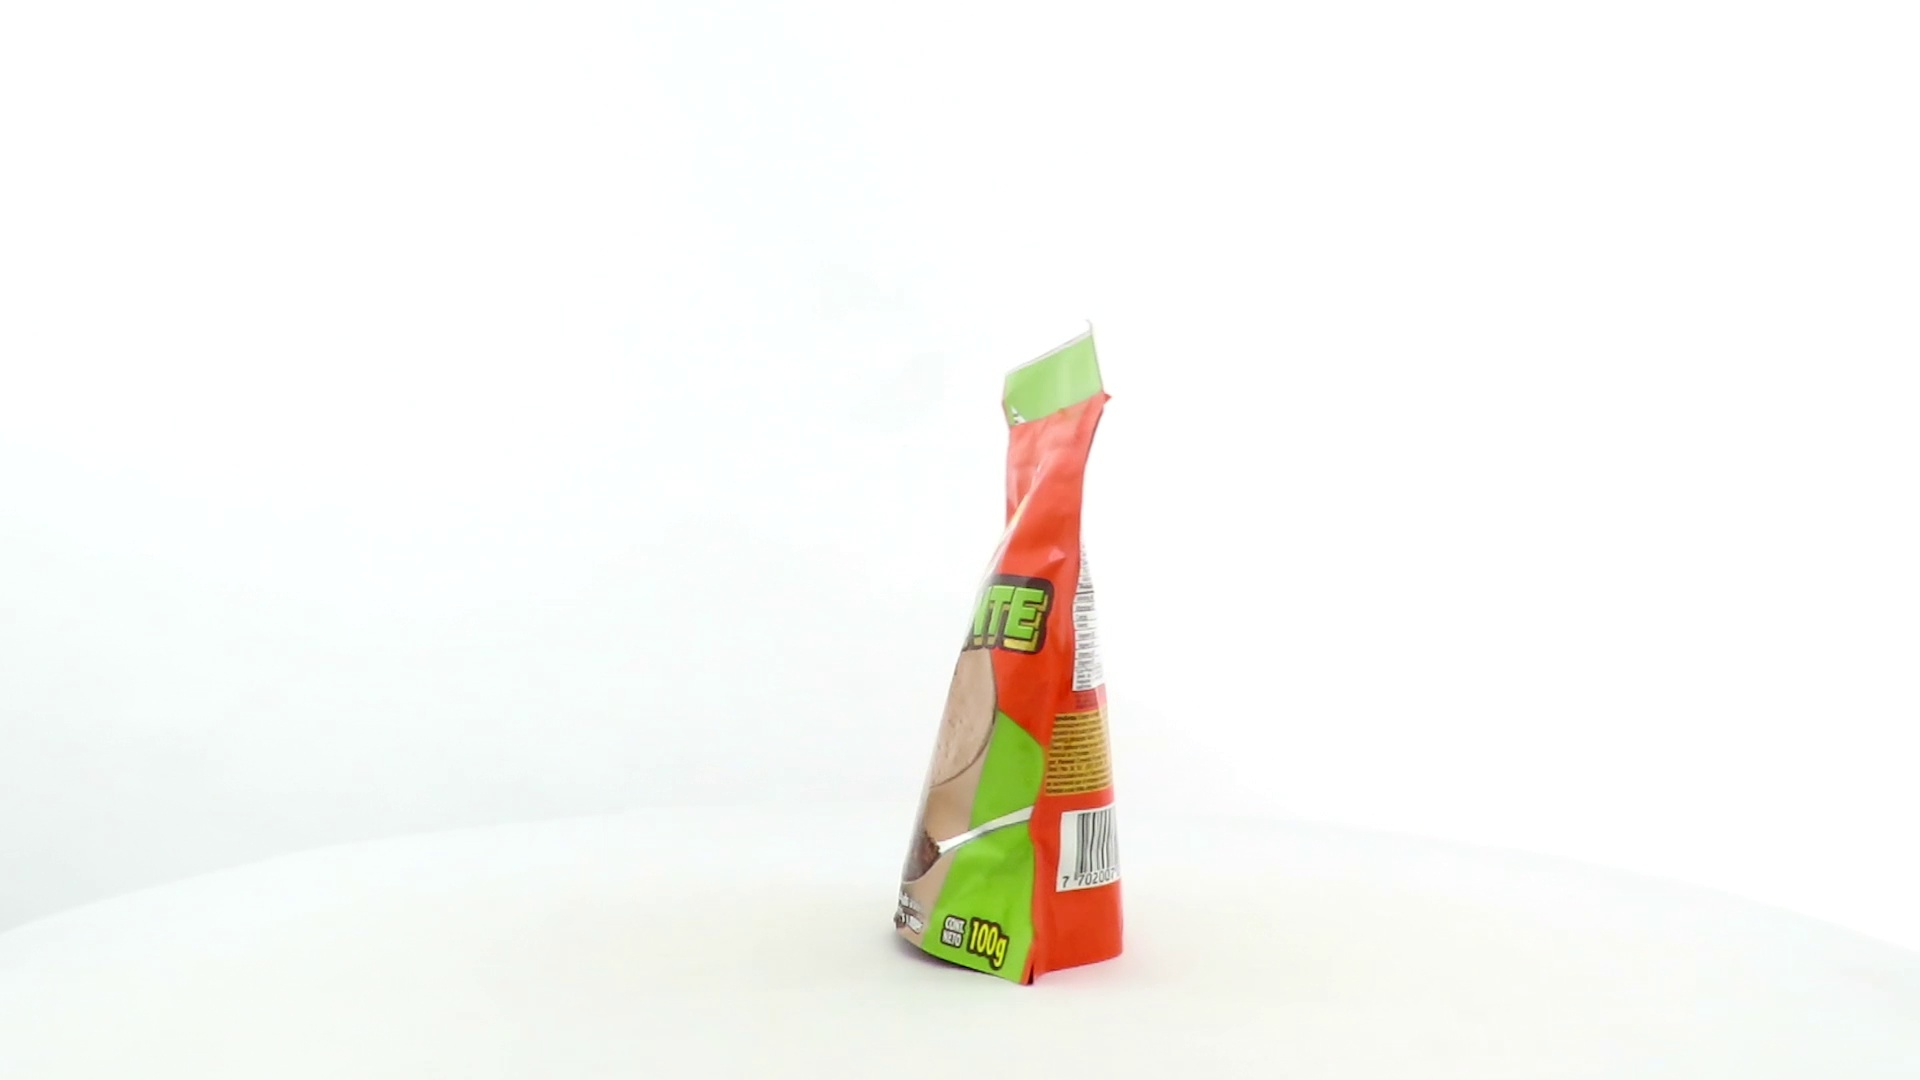COL0170102DYP10000: (885, 314, 1130, 993)
